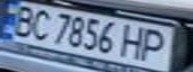5: (81, 16, 103, 52)
6: (96, 19, 121, 56)
7: (48, 11, 72, 46)
8: (66, 14, 87, 50)
B: (3, 2, 42, 38)
C: (24, 7, 57, 42)
H: (115, 22, 151, 61)
P: (136, 26, 175, 63)
